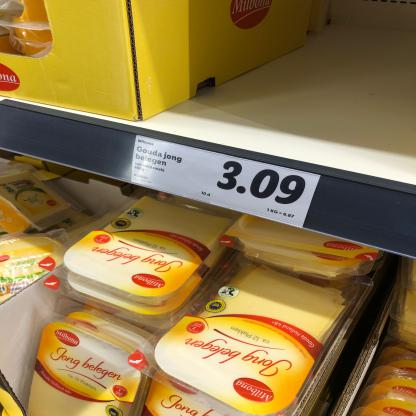prtg: (132, 135, 321, 229)
